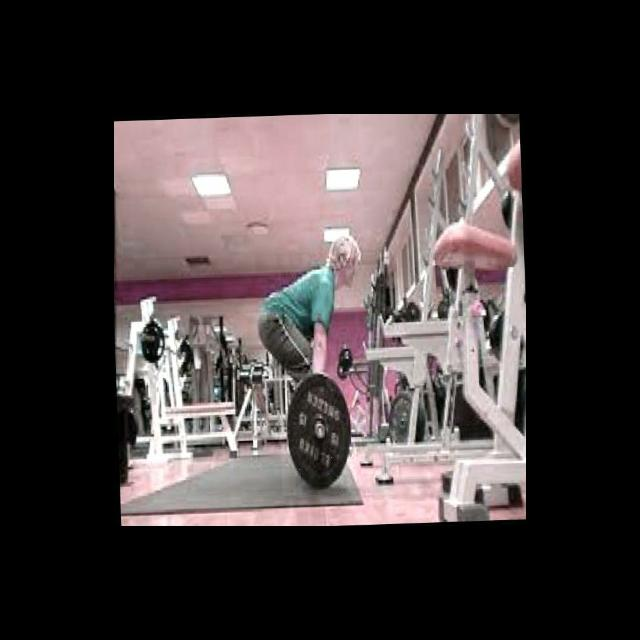barbell: (278, 365, 357, 495)
